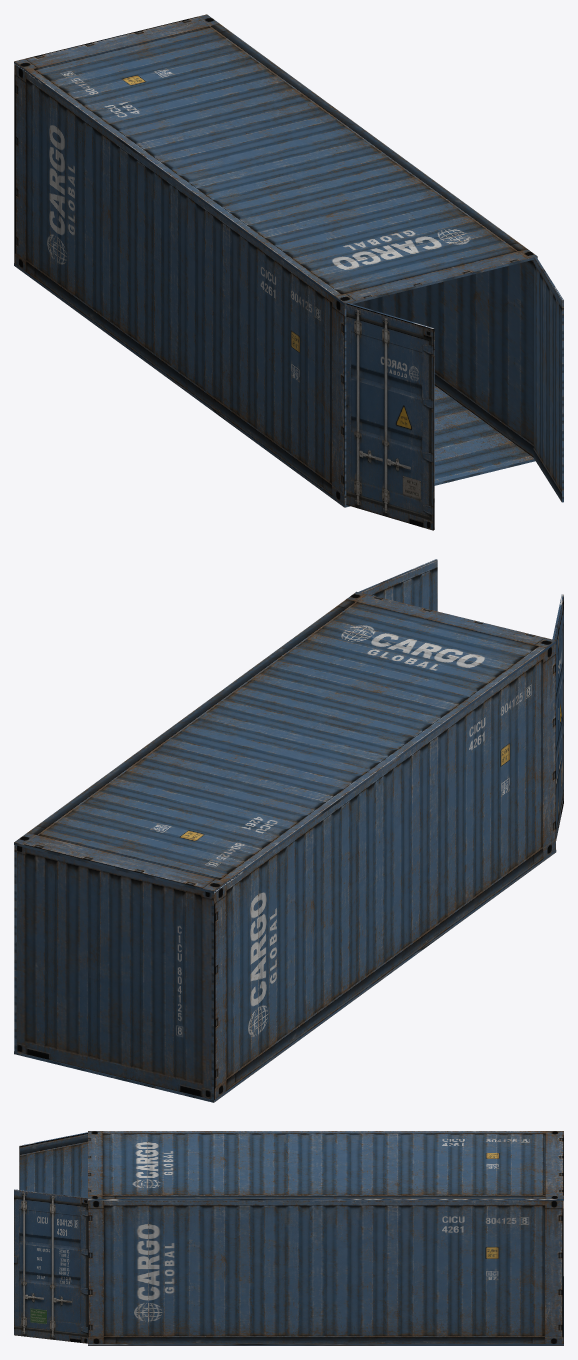
Rendered from container__door_open.glb.
The picture shows the model from 3 angles, top to bottom: view 1: azimuth 30°, elevation 25°; view 2: azimuth 150°, elevation 25°; view 3: azimuth 270°, elevation 25°; orthographic projection. The views are drawn at different scales.
Visible parts, largest first — view 1: Cube.002; view 2: Cube.002; view 3: Cube.002.
Part boxes in pixels (x1,y1,x2,y2): Cube.002: [14, 14, 563, 530]; Cube.002: [14, 559, 563, 1102]; Cube.002: [14, 1131, 563, 1345].
Size of the model in its own units: 5.4 by 5.46 by 18.52.
1 material, 1 textured.
